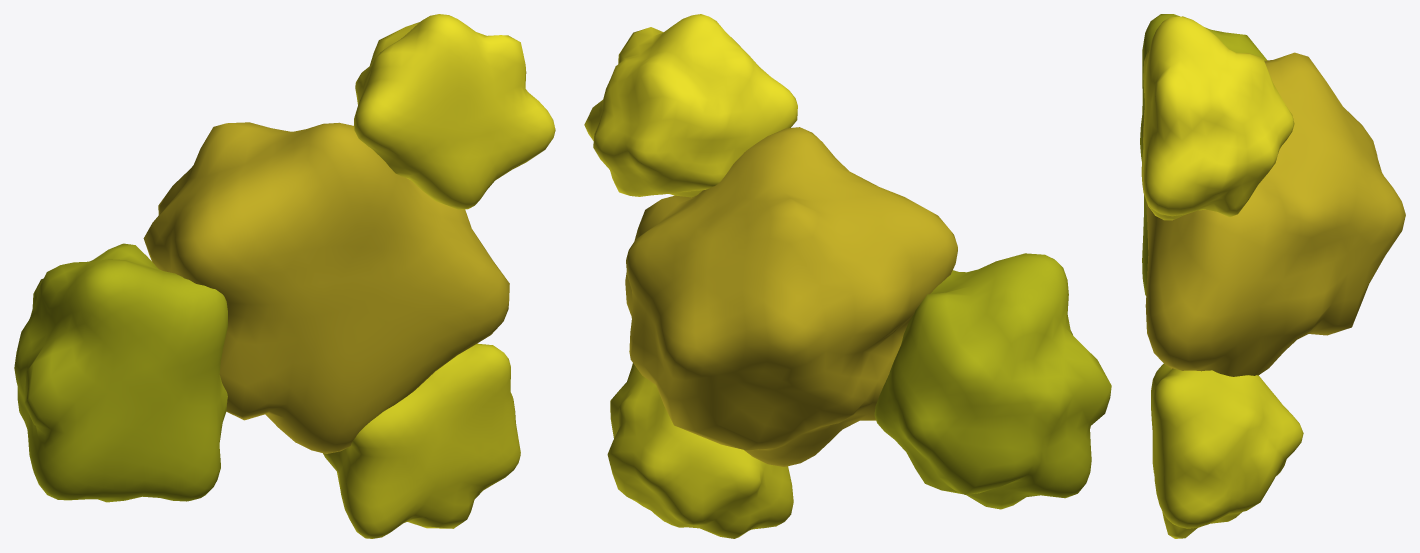
Rendered from bushes_yellow (1).fbx.
3 views of the same model, side by side, from view 1: azimuth 30°, elevation 25°; view 2: azimuth 150°, elevation 25°; view 3: azimuth 270°, elevation 25° (orthographic). The views are drawn at different scales.
Visible parts, largest first — view 1: Icosphere.001; view 2: Icosphere.001; view 3: Icosphere.001.
Part boxes in pixels (x1,y1,x2,y2): Icosphere.001: (14, 14, 555, 538); Icosphere.001: (584, 14, 1111, 538); Icosphere.001: (1140, 14, 1405, 538).
Bounding box in the file's own units: 519 × 490 × 229.
